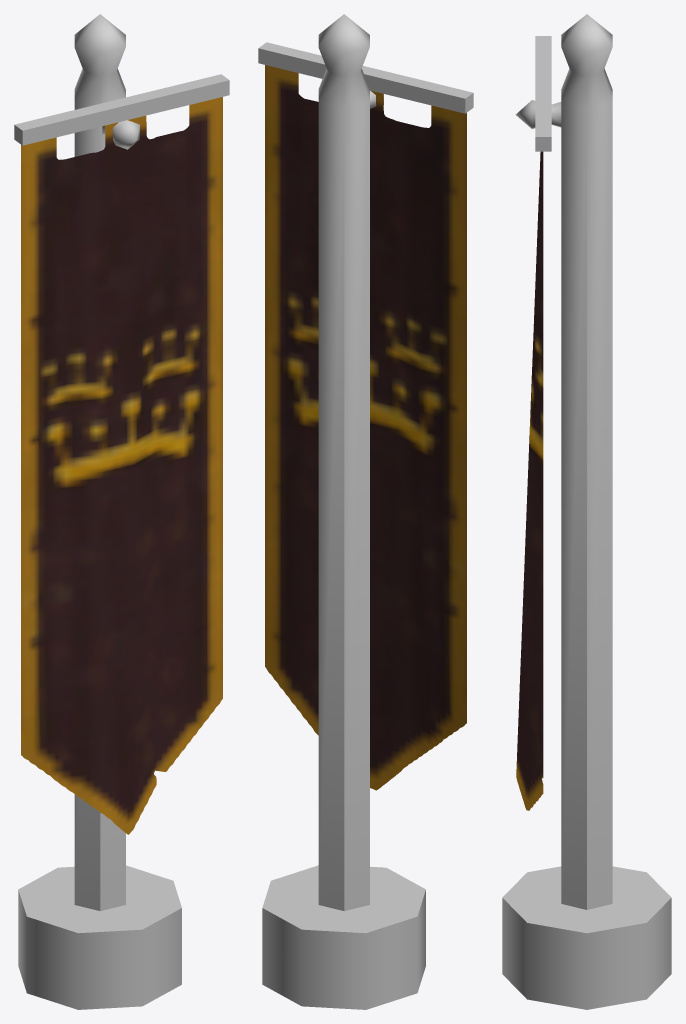
The model's file is Sign_2C.fbx.
3 views of the same model, side by side, from view 1: azimuth 30°, elevation 25°; view 2: azimuth 150°, elevation 25°; view 3: azimuth 270°, elevation 25° (orthographic).
Parts seen in each view (by area): view 1: Alpha, polySurface7499; view 2: Alpha, polySurface7499; view 3: polySurface7499, Alpha.
Part boxes in pixels (x1,y1,x2,y2): Alpha: (21,97,222,834); polySurface7499: (14,14,229,1009); Alpha: (265,65,466,790); polySurface7499: (258,14,473,1009); polySurface7499: (502,14,671,1009); Alpha: (516,151,543,810).
Size of the model in its own units: 0.5645 by 2.51 by 0.4.
